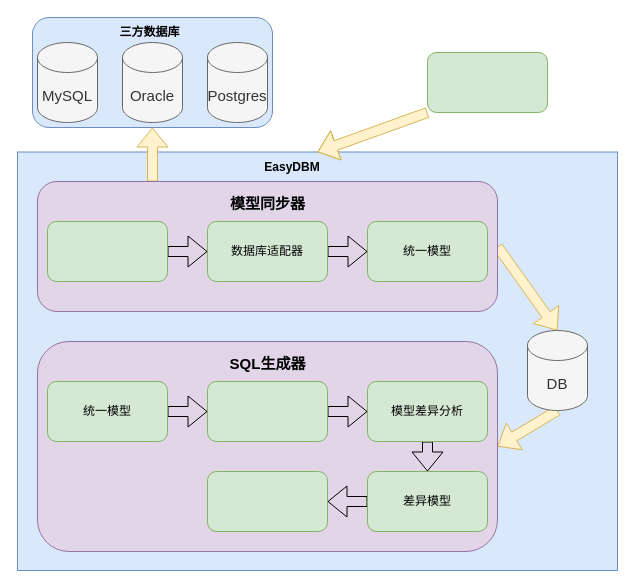
Image size: 635x588. Some labels were removed from this diagram. Each missing label, with the centre of its shape:
SQL生成: point (267, 501)
制定版本: point (267, 411)
建模信息: point (107, 251)
浏览器: point (487, 82)
